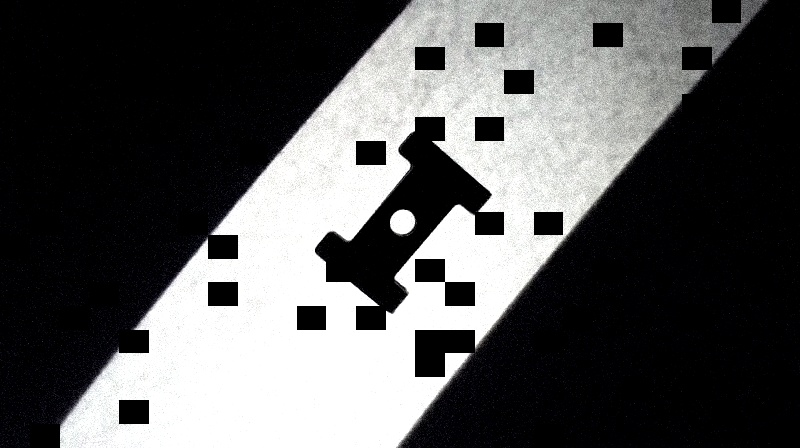O002: (308, 126, 494, 317)
